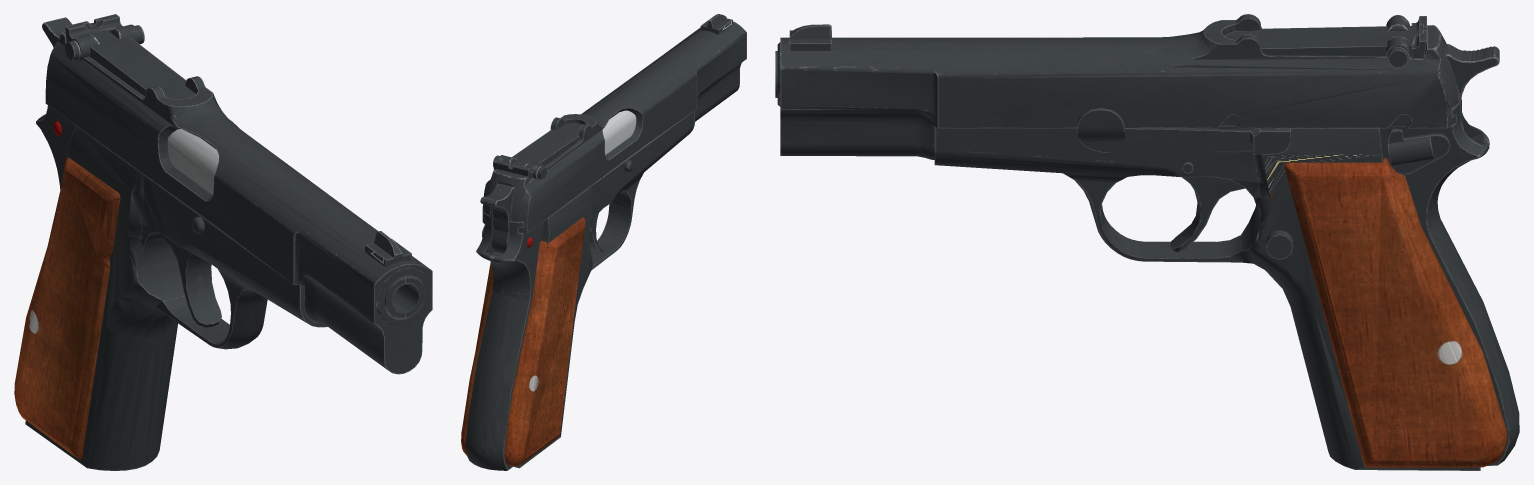
The model's file is BrowningHP.gltf.
3 views of the same model, side by side, from view 1: azimuth 30°, elevation 25°; view 2: azimuth 150°, elevation 25°; view 3: azimuth 270°, elevation 25° (orthographic). The views are drawn at different scales.
Parts seen in each view (by area): view 1: BrowningHP; view 2: BrowningHP; view 3: BrowningHP.
Boxes of the visible parts, left/top/right/bottom form: BrowningHP: left=14, top=14, right=432, bottom=470; BrowningHP: left=461, top=14, right=746, bottom=470; BrowningHP: left=775, top=14, right=1519, bottom=470.
Size of the model in its own units: 0.0999 by 0.4349 by 0.6862.
Materials: 1 (1 with a texture image).
